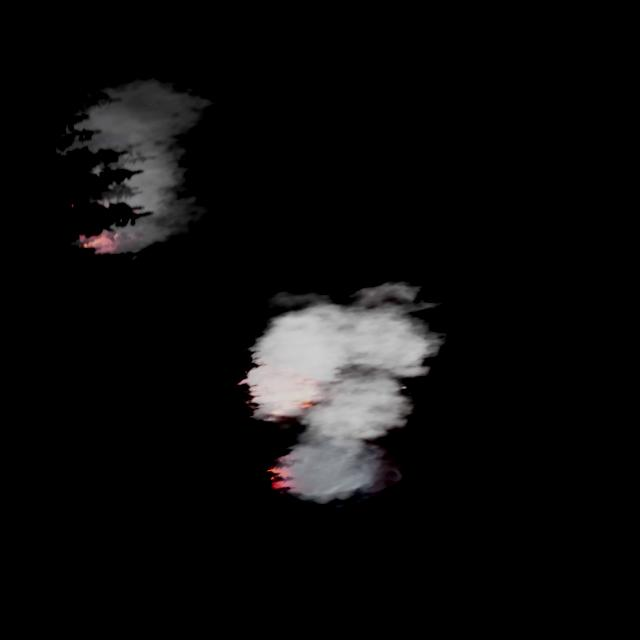smoke: (224, 266, 480, 522), (50, 59, 254, 270)
